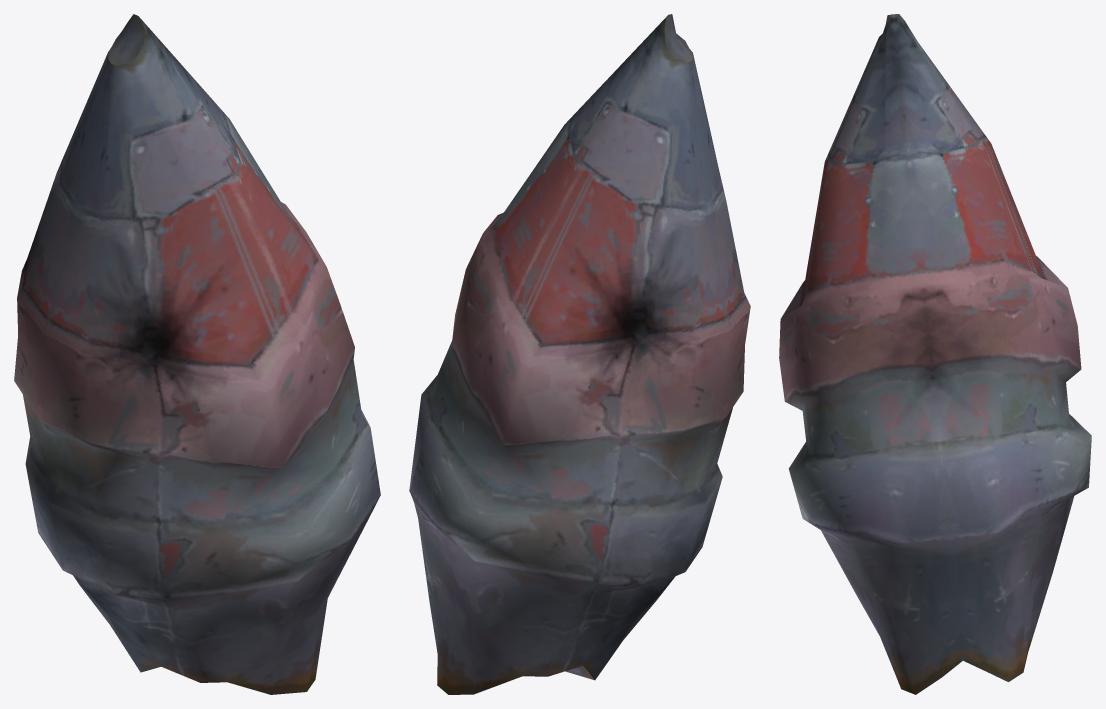
Rendered from ord_item_sav_debris_medium_01.glb.
3 renders of one model, left to right at view 1: azimuth 30°, elevation 25°; view 2: azimuth 150°, elevation 25°; view 3: azimuth 270°, elevation 25°, orthographic. The views are drawn at different scales.
Parts seen in each view (by area): view 1: ord_item_sav_debris_medium_01; view 2: ord_item_sav_debris_medium_01; view 3: ord_item_sav_debris_medium_01.
Part boxes in pixels (<box>): ord_item_sav_debris_medium_01: <box>14,14,380,694</box>; ord_item_sav_debris_medium_01: <box>409,14,750,694</box>; ord_item_sav_debris_medium_01: <box>779,14,1091,694</box>.
Size of the model in its own units: 0.4827 by 1.09 by 0.5091.
1 material, 1 textured.
